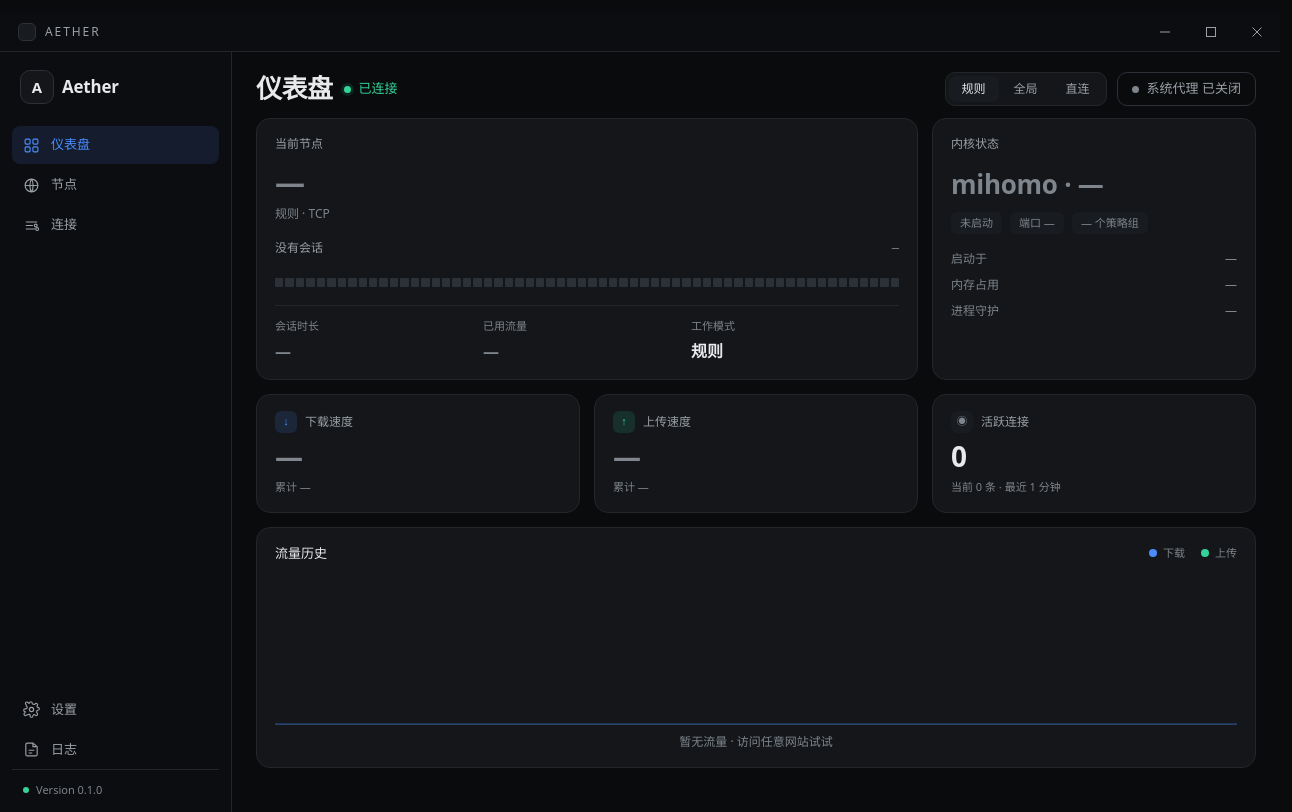
Test: App › 「日志」进入真实日志页：没有日志来源时如实说，而不是给一句占位说明
The width and height of the screenshot is (1292, 812).
Check: the text "当前节点" is shown, box [275,135,323,153]
Step 1. Click the button "日志" → {"x": 116, "y": 750}, box [12,730,219,768]
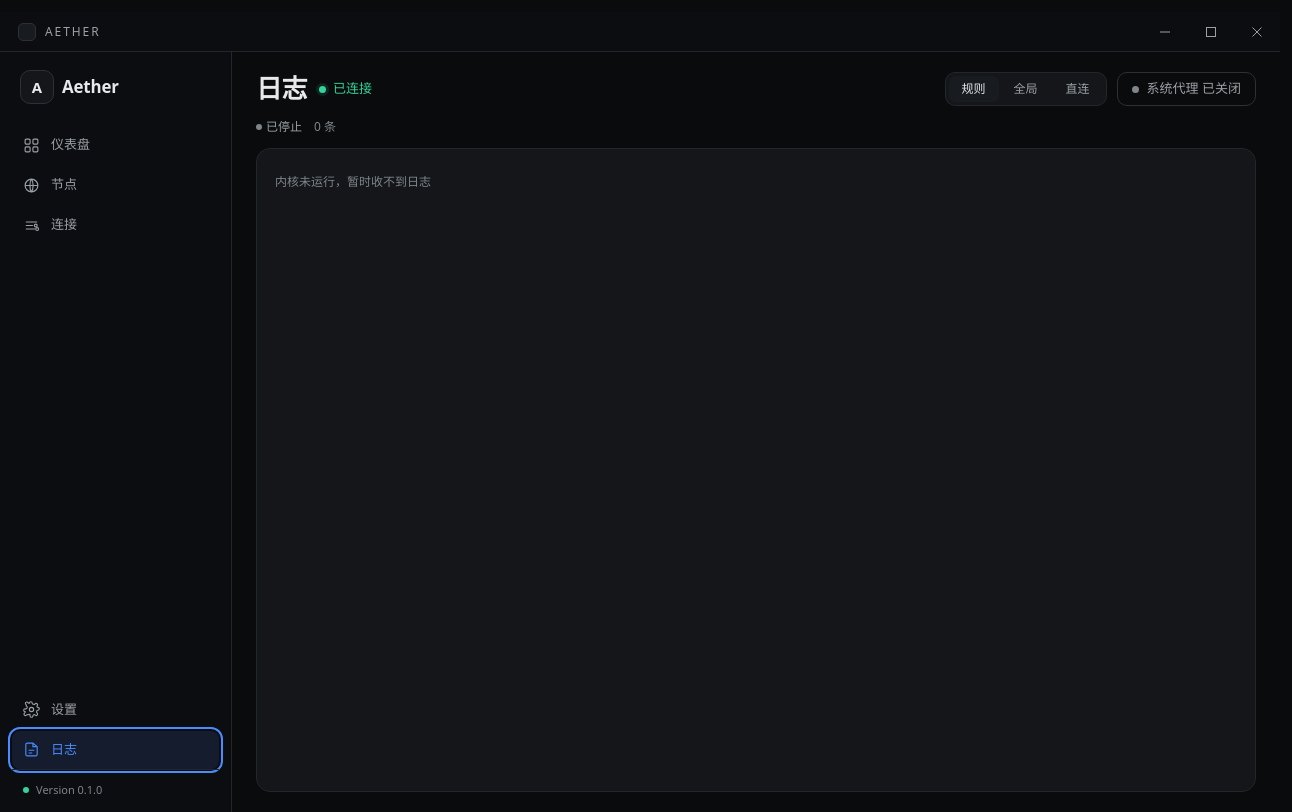
Check: the text "内核未运行，暂时收不到日志" is shown, box [275,173,431,190]
Check: the text "已停止" is shown, box [256,118,302,136]
Check: the text "当前节点" is gone
